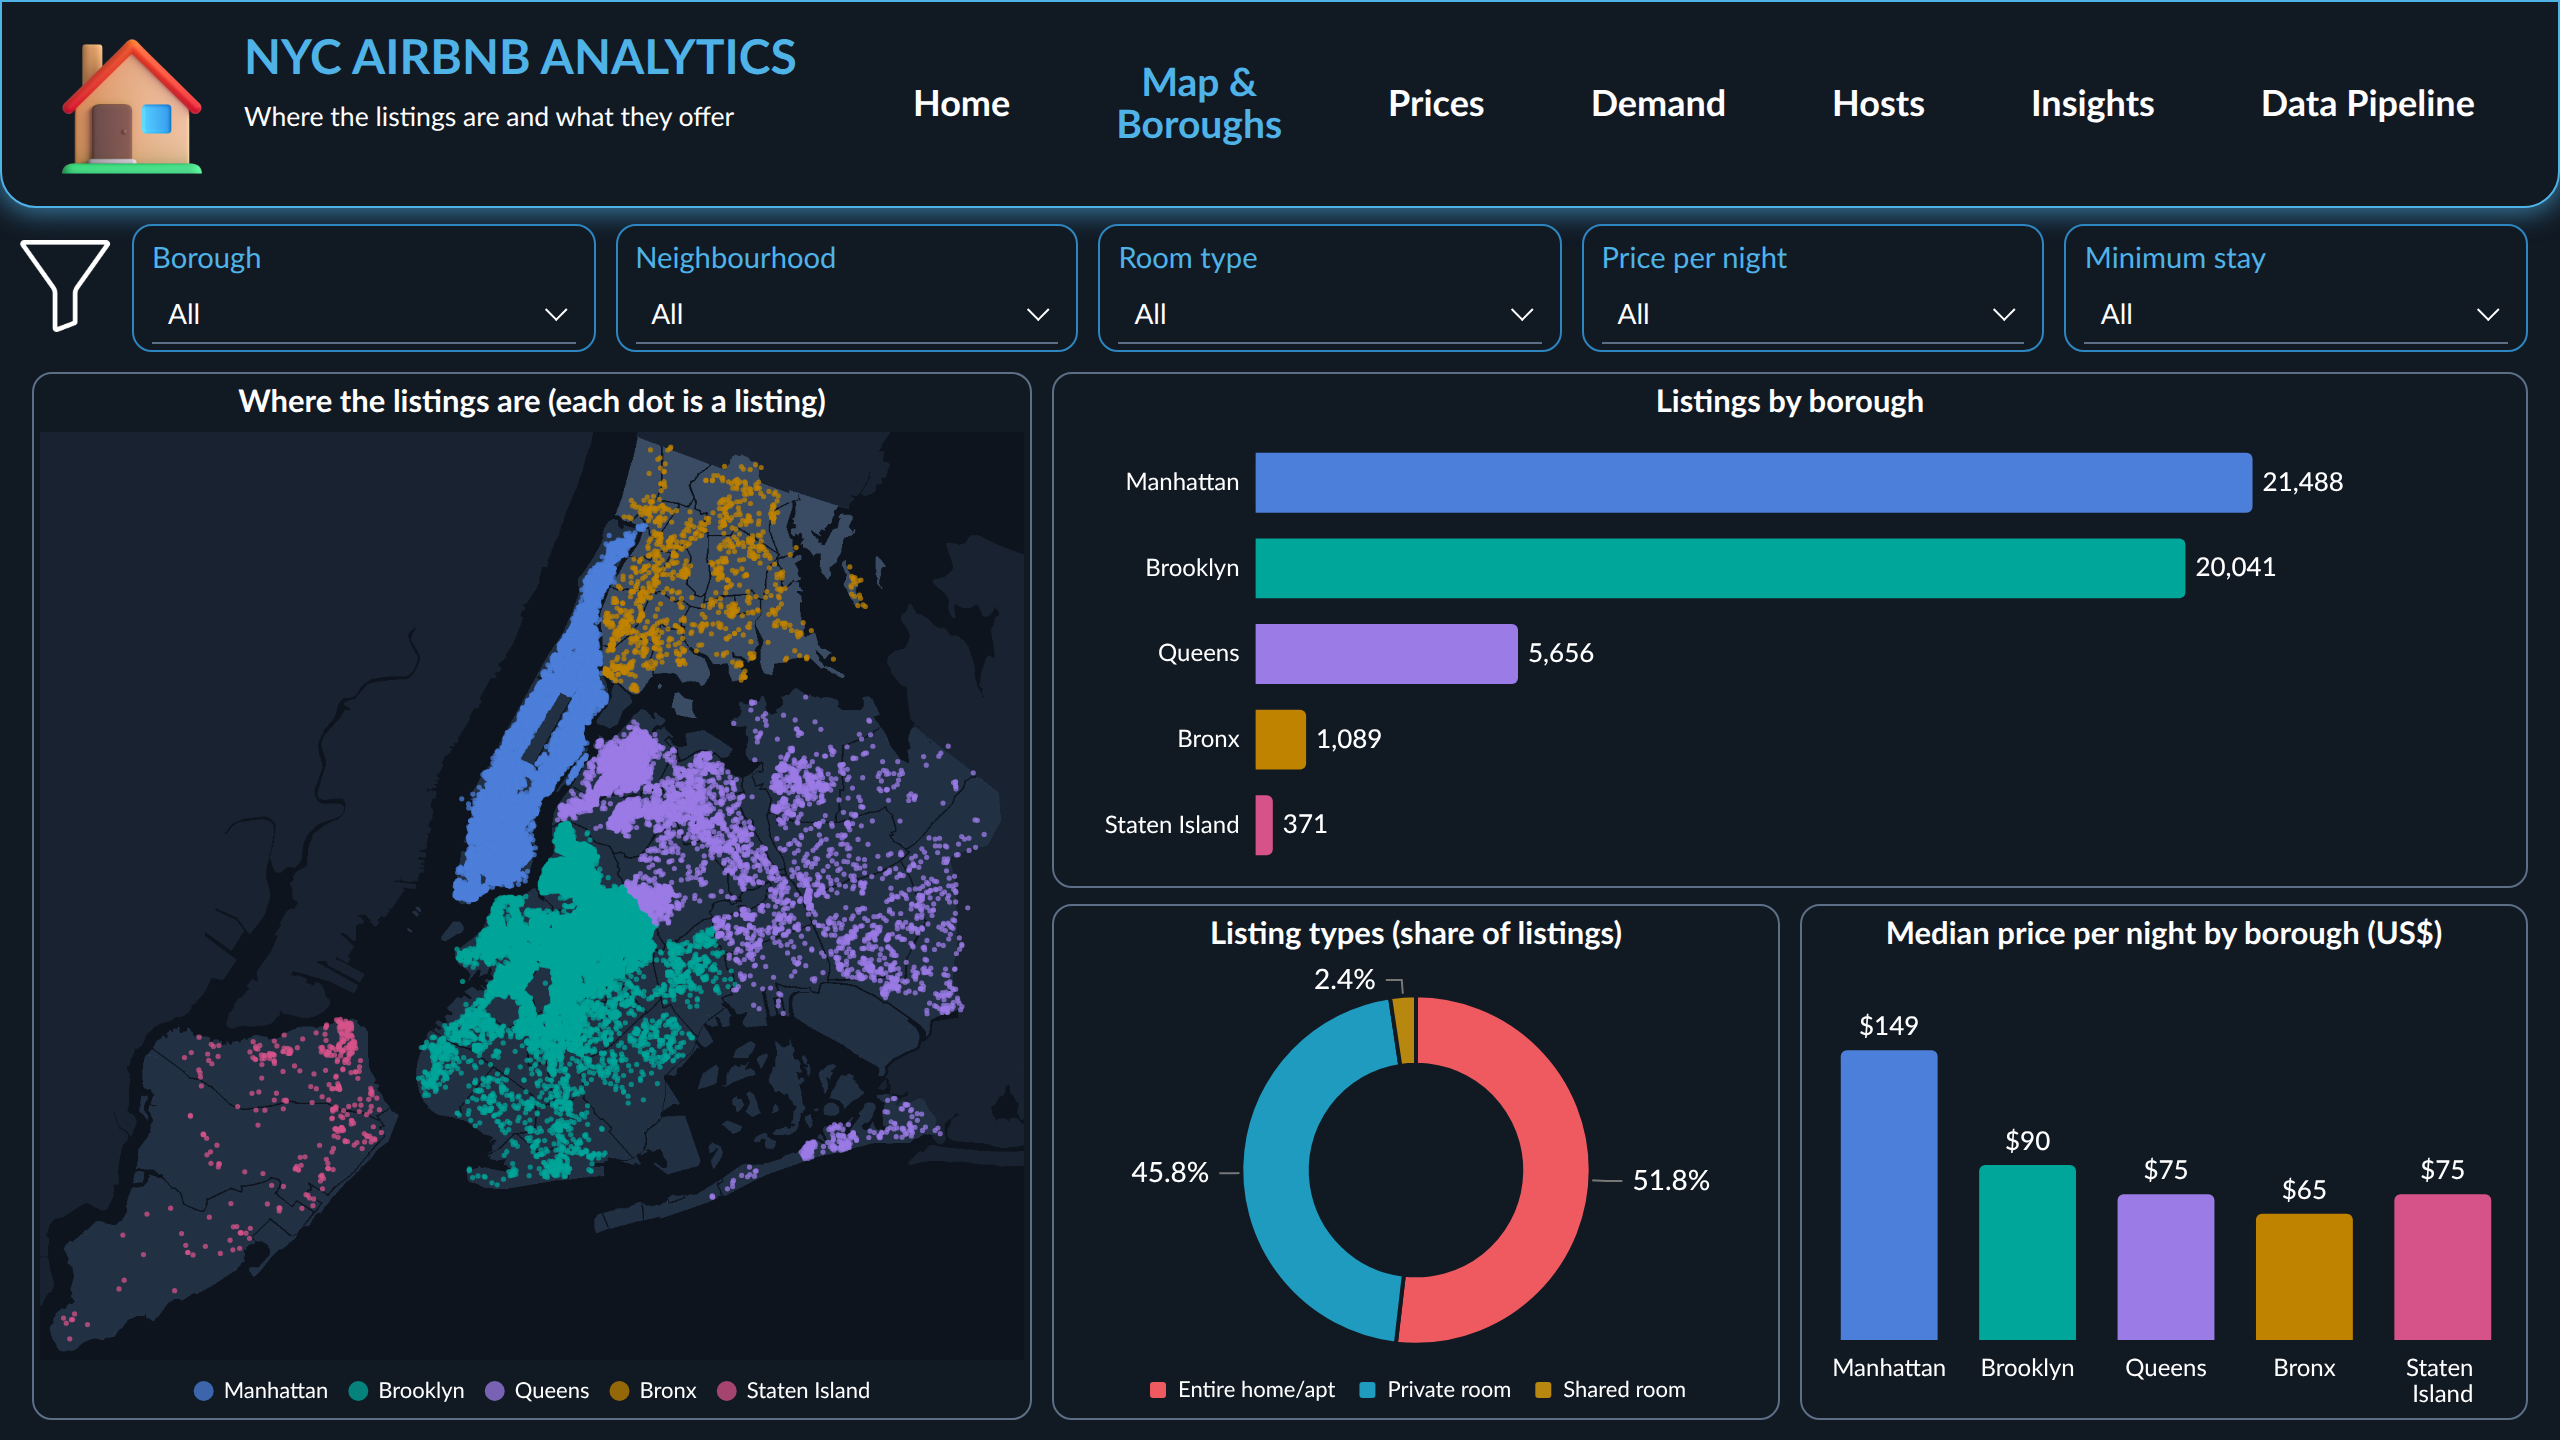

This screenshot's page, from the dashboard's own definition file:
{"tool":"powerbi","page":{"name":"Map & Boroughs","canvas":[1280,720],"ordinal":1},"visuals":[{"type":"shape","box":[0,0,1280,104],"z":1000},{"type":"image","box":[18,12,96,80],"z":2000},{"type":"textbox","box":[122,14,300,76],"z":3000},{"type":"pageNavigator","box":[430,26,834,52],"z":4000},{"type":"image","box":[10,120,46,46],"z":5000},{"type":"shape","box":[66,112,231.6,64],"z":6000},{"type":"slicer","fields":{"Values":["Listings.Borough"]},"box":[70,114,223.6,60],"z":7000},{"type":"shape","box":[307.6,112,231.6,64],"z":8000},{"type":"slicer","fields":{"Values":["Listings.Neighbourhood"]},"box":[311.6,114,223.6,60],"z":9000},{"type":"shape","box":[549.2,112,231.6,64],"z":10000},{"type":"slicer","fields":{"Values":["Listings.Room Type"]},"box":[553.2,114,223.6,60],"z":11000},{"type":"shape","box":[790.8,112,231.6,64],"z":12000},{"type":"slicer","fields":{"Values":["Listings.Price Band"]},"box":[794.8,114,223.6,60],"z":13000},{"type":"shape","box":[1032.4,112,231.6,64],"z":14000},{"type":"slicer","fields":{"Values":["Listings.Minimum Stay"]},"box":[1036.4,114,223.6,60],"z":15000},{"type":"shape","box":[16,186,500,524],"z":16000},{"type":"scatterChart","title":"Where the listings are (each dot is a listing)","fields":{"Category":["Listings.Listing ID"],"Series":["Listings.Borough"],"X":["Listings.Avg Longitude"],"Y":["Listings.Avg Latitude"]},"box":[20,190,492,516],"z":17000},{"type":"shape","box":[526,186,738,258],"z":18000},{"type":"barChart","title":"Listings by borough","fields":{"Category":["Listings.Borough"],"Y":["Listings.Total Listings"]},"box":[530,190,730,250],"z":19000},{"type":"shape","box":[526,452,364,258],"z":20000},{"type":"donutChart","title":"Listing types (share of listings)","fields":{"Category":["Listings.Room Type"],"Y":["Listings.Total Listings"]},"box":[530,456,356,250],"z":21000},{"type":"shape","box":[900,452,364,258],"z":22000},{"type":"columnChart","title":"Median price per night by borough (US$)","fields":{"Category":["Listings.Borough"],"Y":["Listings.Median Price"]},"box":[904,456,356,250],"z":23000}]}

Visuals, with their boxes in screenshot pixels (x1, y1, x2, y2), scaled from the page's 1280x720 canvas onto the 2560x1440 screenshot:
shape: (left=0, top=0, right=2559, bottom=208)
image: (left=36, top=24, right=228, bottom=184)
textbox: (left=244, top=28, right=844, bottom=180)
pageNavigator: (left=860, top=52, right=2528, bottom=156)
image: (left=20, top=240, right=112, bottom=332)
shape: (left=132, top=224, right=595, bottom=352)
slicer - Listings.Borough: (left=140, top=228, right=587, bottom=348)
shape: (left=615, top=224, right=1078, bottom=352)
slicer - Listings.Neighbourhood: (left=623, top=228, right=1070, bottom=348)
shape: (left=1098, top=224, right=1562, bottom=352)
slicer - Listings.Room Type: (left=1106, top=228, right=1554, bottom=348)
shape: (left=1582, top=224, right=2045, bottom=352)
slicer - Listings.Price Band: (left=1590, top=228, right=2037, bottom=348)
shape: (left=2065, top=224, right=2528, bottom=352)
slicer - Listings.Minimum Stay: (left=2073, top=228, right=2520, bottom=348)
shape: (left=32, top=372, right=1032, bottom=1420)
"Where the listings are (each dot is a listing)" scatterChart: (left=40, top=380, right=1024, bottom=1412)
shape: (left=1052, top=372, right=2528, bottom=888)
"Listings by borough" barChart: (left=1060, top=380, right=2520, bottom=880)
shape: (left=1052, top=904, right=1780, bottom=1420)
"Listing types (share of listings)" donutChart: (left=1060, top=912, right=1772, bottom=1412)
shape: (left=1800, top=904, right=2528, bottom=1420)
"Median price per night by borough (US$)" columnChart: (left=1808, top=912, right=2520, bottom=1412)
